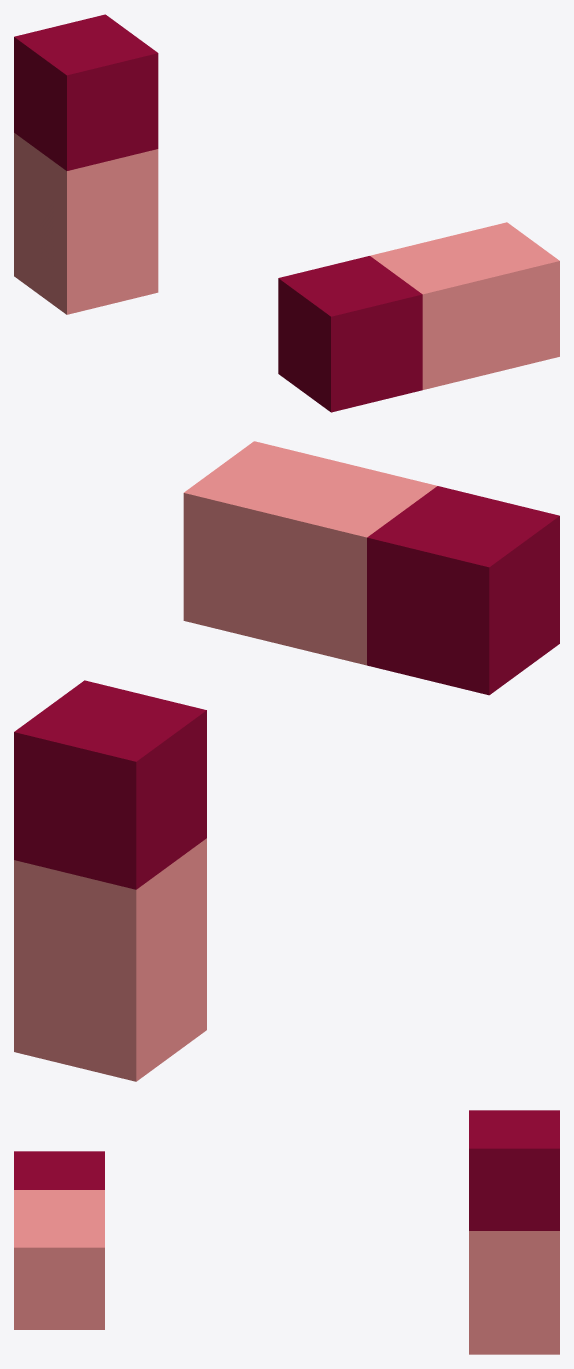
File: perso2-2.obj
The picture shows the model from 3 angles, top to bottom: view 1: azimuth 30°, elevation 25°; view 2: azimuth 150°, elevation 25°; view 3: azimuth 270°, elevation 25°; orthographic projection. The views are drawn at different scales.
Size of the model in its own units: 0.5 by 0.5 by 1.2.
Materials: 1 (1 with a texture image).
